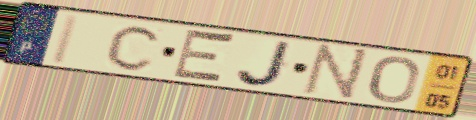C: (103, 23, 166, 73)
E: (169, 26, 240, 87)
I: (46, 12, 85, 67)
J: (234, 39, 297, 89)
N: (298, 42, 373, 103)
O: (367, 55, 422, 104)
